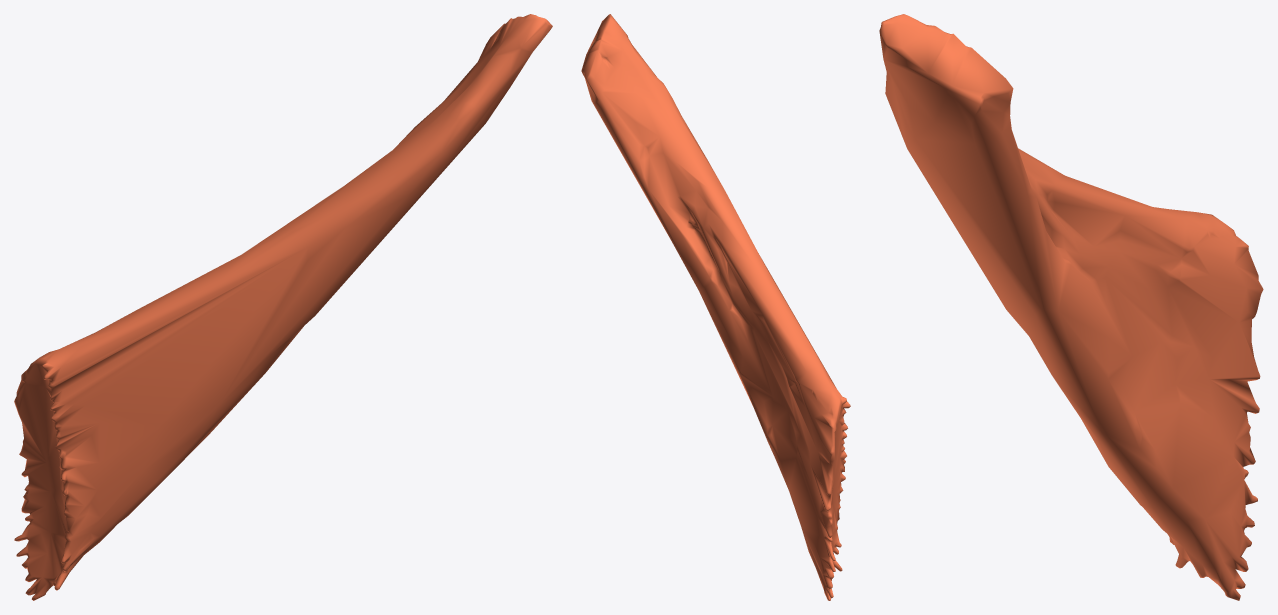
The model's file is Adductor_minimus.r_Generated_Mesh_From_X3D.1010.glb.
The picture shows the model from 3 angles, left to right: view 1: azimuth 30°, elevation 25°; view 2: azimuth 150°, elevation 25°; view 3: azimuth 270°, elevation 25°; orthographic projection. The views are drawn at different scales.
Visible parts, largest first — view 1: Adductor_minimus.r_Generated_Mesh_From_X3D.1010; view 2: Adductor_minimus.r_Generated_Mesh_From_X3D.1010; view 3: Adductor_minimus.r_Generated_Mesh_From_X3D.1010.
Part boxes in pixels (box(x1,y1,x2,y2)): Adductor_minimus.r_Generated_Mesh_From_X3D.1010: box(14, 14, 552, 600); Adductor_minimus.r_Generated_Mesh_From_X3D.1010: box(581, 14, 850, 600); Adductor_minimus.r_Generated_Mesh_From_X3D.1010: box(879, 14, 1263, 600).
Size of the model in its own units: 0.0801 by 0.1044 by 0.0414.
